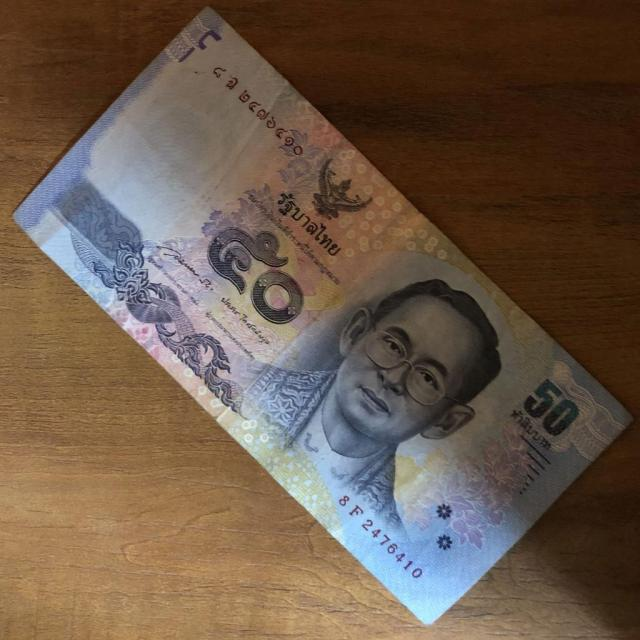THAI50: (14, 8, 629, 620)
